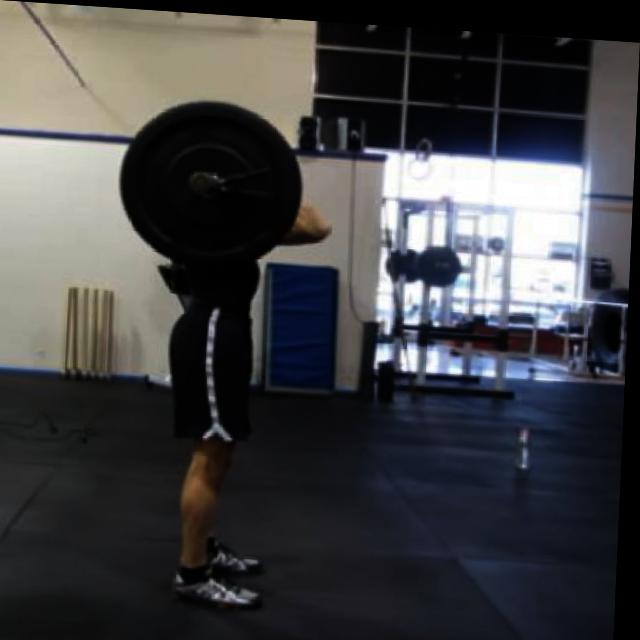barbell: (113, 91, 311, 270)
